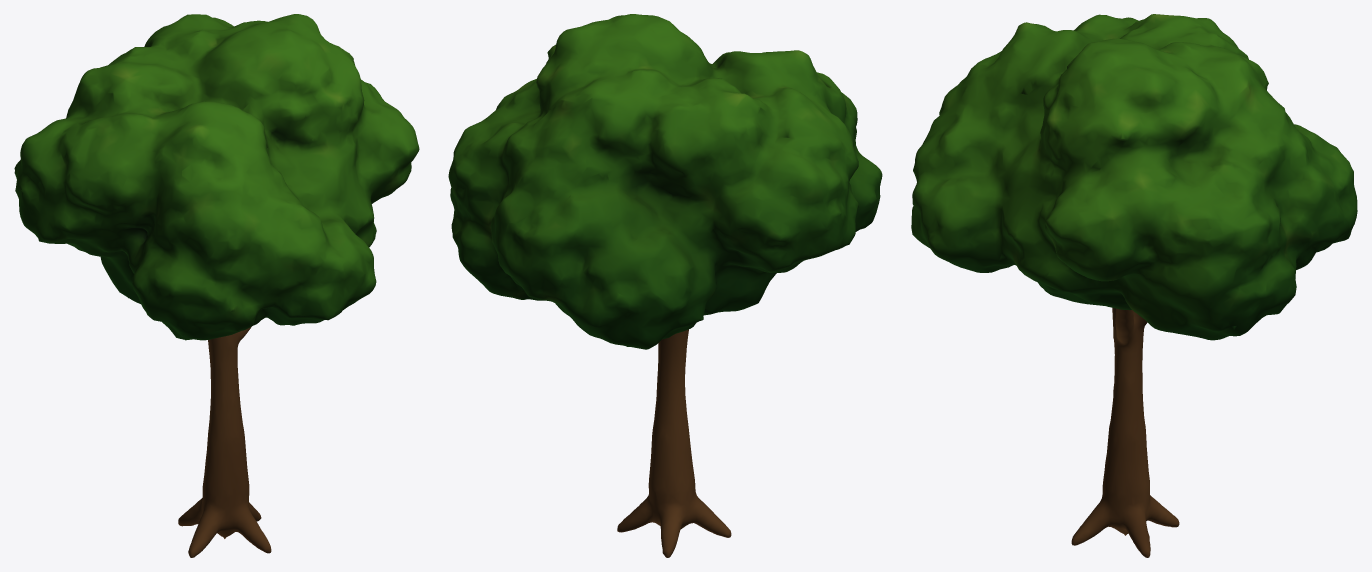
The model's file is tree_round.glb.
3 renders of one model, left to right at view 1: azimuth 30°, elevation 25°; view 2: azimuth 150°, elevation 25°; view 3: azimuth 270°, elevation 25°, orthographic.
Visible parts, largest first — view 1: crown, trunk; view 2: crown, trunk; view 3: crown, trunk.
Part boxes in pixels (bbox=[...]): crown: bbox=[14, 14, 419, 340]; trunk: bbox=[178, 326, 271, 557]; crown: bbox=[448, 14, 882, 349]; trunk: bbox=[617, 329, 731, 557]; crown: bbox=[911, 14, 1357, 340]; trunk: bbox=[1071, 308, 1179, 557].
Bounding box in the file's own units: 4.84 × 6.35 × 5.04.
